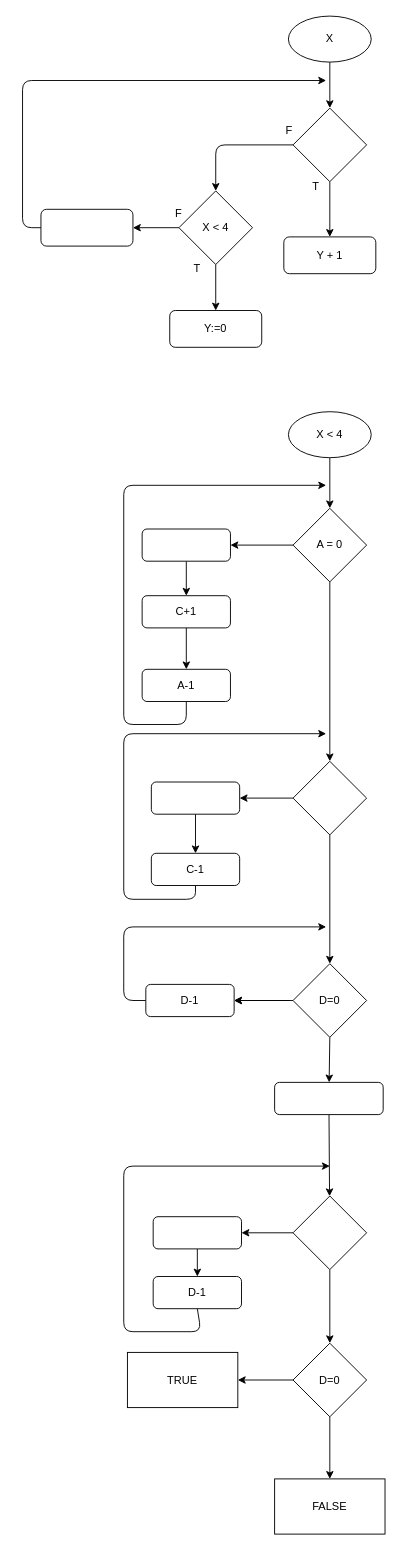
Some shapes in this 401 by 1550 pixel diagram are drawn without their labels. Each missing label, with the box of its shape:
A+1: (150, 781, 240, 814)
B = 0: (292, 1195, 367, 1270)
B+1: (141, 528, 230, 561)
B-1: (152, 1216, 242, 1249)
C = 0: (292, 760, 367, 835)
D + 4: (274, 1081, 383, 1115)
X-4: (40, 208, 133, 246)
X=4: (292, 107, 367, 182)
